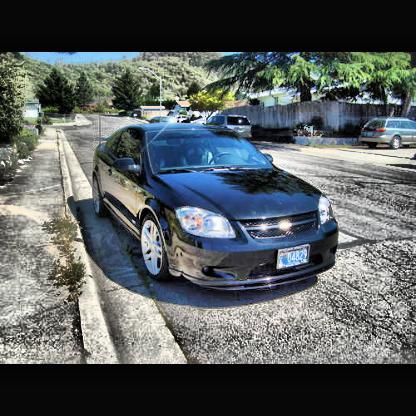Chevrolet Cobalt SS 2010: (96, 124, 338, 292)
